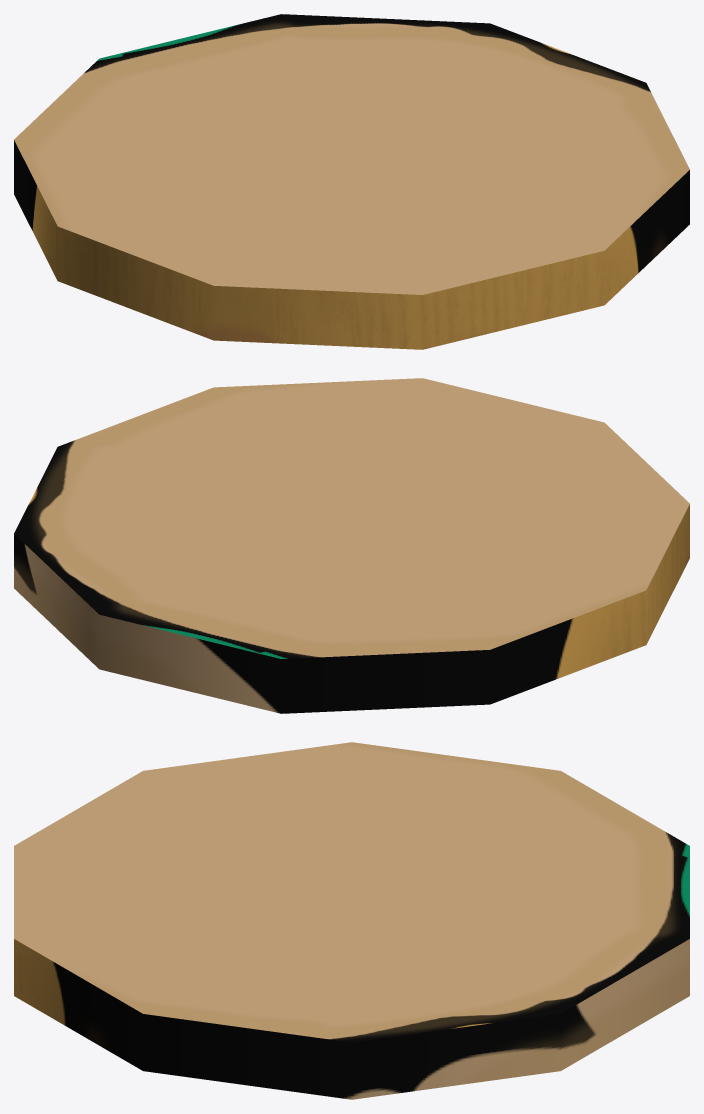
Rendered from platform.obj.
The picture shows the model from 3 angles, top to bottom: view 1: azimuth 30°, elevation 25°; view 2: azimuth 150°, elevation 25°; view 3: azimuth 270°, elevation 25°; orthographic projection. The views are drawn at different scales.
Visible parts, largest first — view 1: Boden_Mesh.007; view 2: Boden_Mesh.007; view 3: Boden_Mesh.007.
Part boxes in pixels (x1,y1,x2,y2): Boden_Mesh.007: [14, 14, 689, 349]; Boden_Mesh.007: [14, 378, 689, 713]; Boden_Mesh.007: [14, 742, 689, 1099].
Bounding box in the file's own units: 6 × 0.5332 × 5.71.
